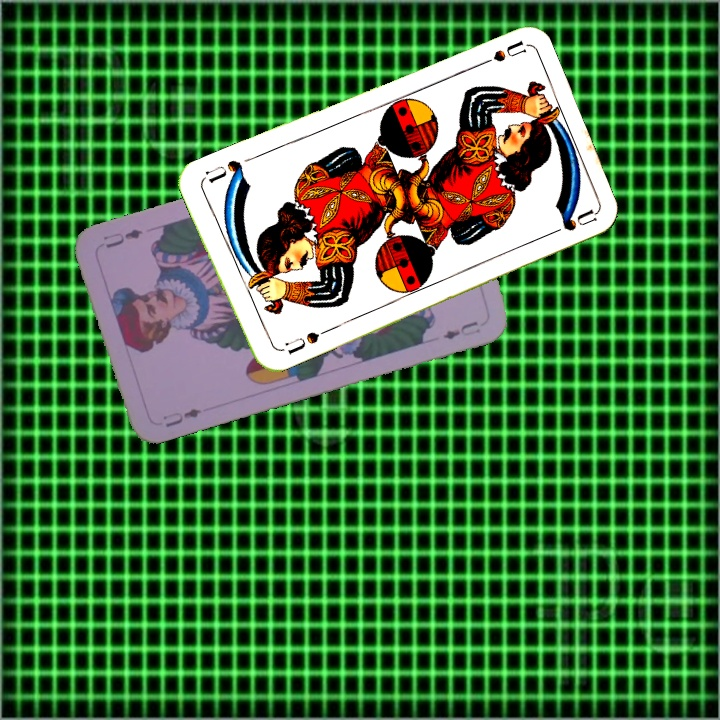EU: (158, 404, 210, 430)
SU: (469, 37, 527, 72), (273, 325, 330, 357)
